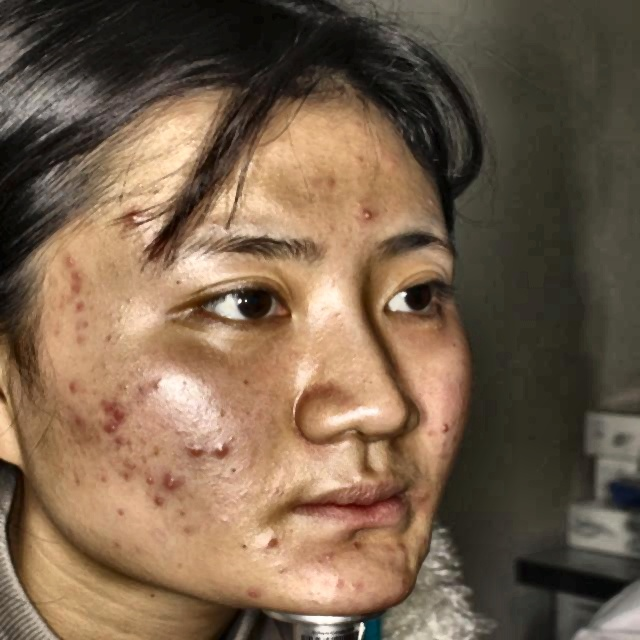papule: (115, 204, 155, 242), (248, 532, 292, 562), (51, 269, 92, 296), (352, 201, 383, 231), (138, 484, 175, 509), (156, 467, 196, 489), (207, 435, 235, 464), (242, 578, 272, 602), (180, 435, 207, 461), (96, 414, 125, 437), (59, 248, 87, 271), (97, 392, 128, 412), (144, 244, 168, 266), (149, 377, 178, 395), (75, 299, 98, 320), (139, 470, 162, 491), (119, 452, 134, 484), (312, 537, 333, 559), (65, 374, 81, 397), (63, 413, 92, 425), (81, 388, 90, 398)
